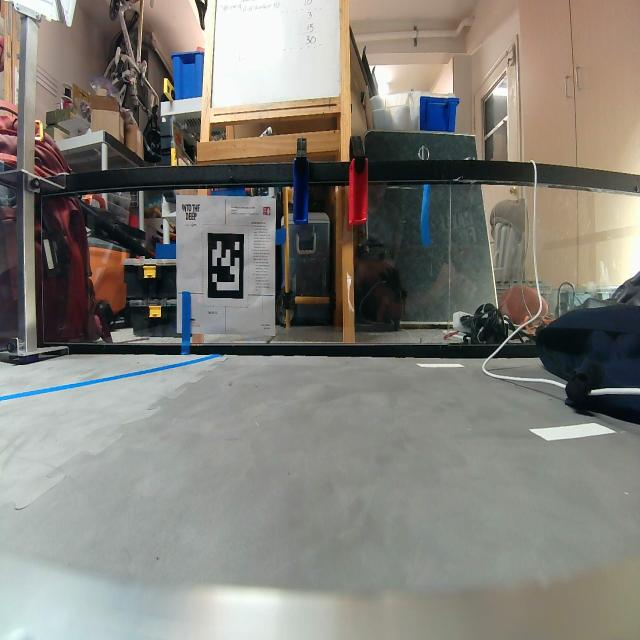specimen_block_blue: (292, 157, 314, 227)
specimen_block_red: (352, 153, 372, 230)
